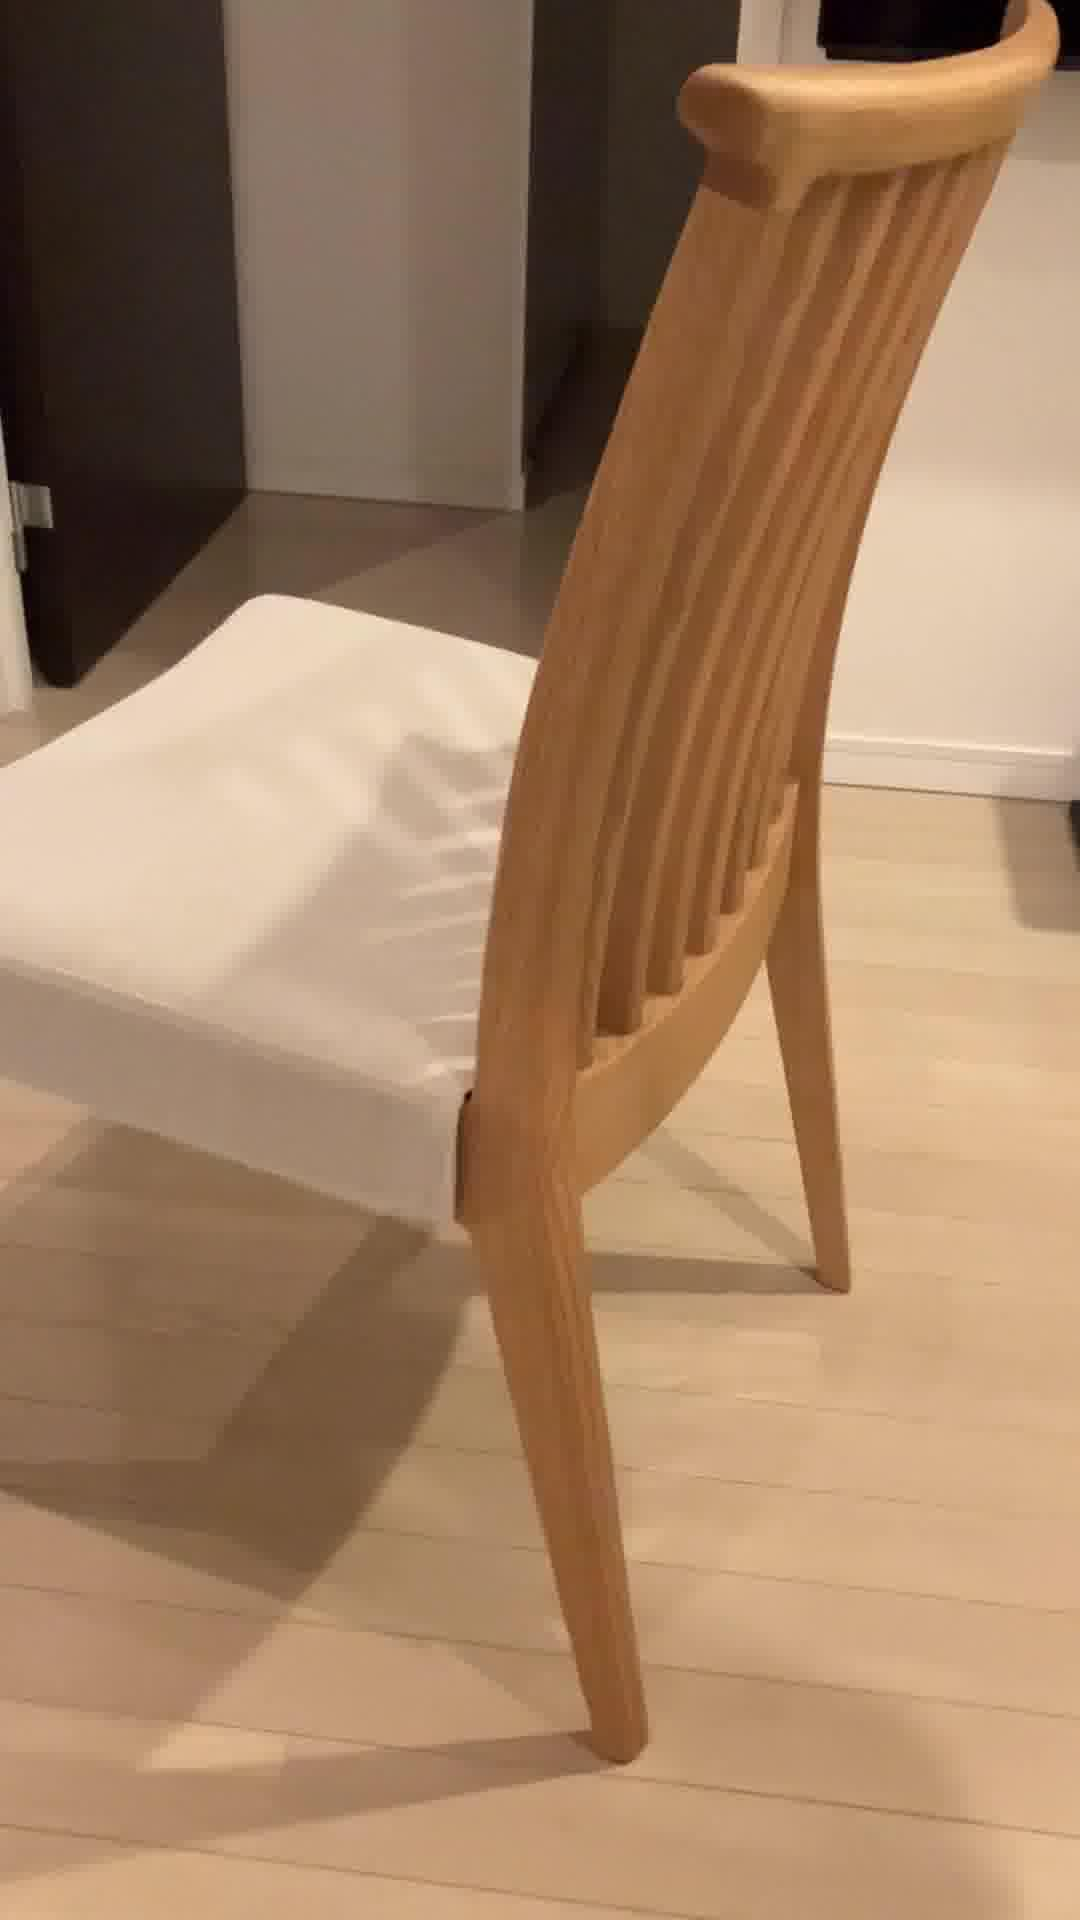takumikan-chair: (0, 0, 1056, 1763)
